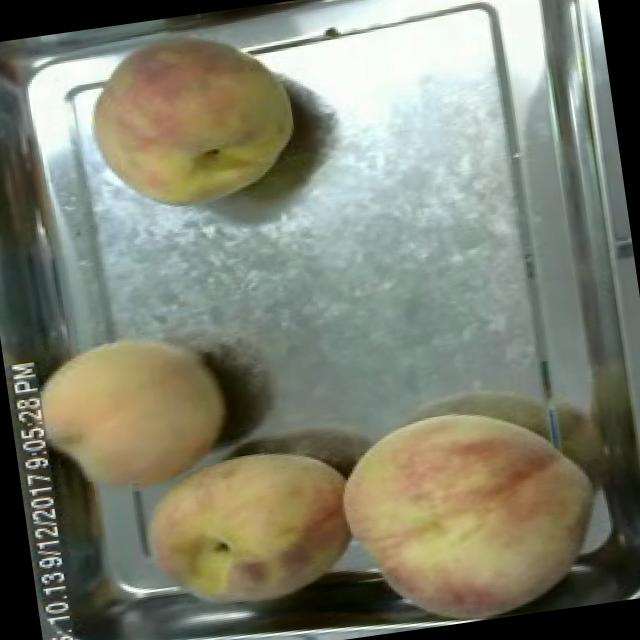Fruit: (320, 377, 634, 637), (70, 6, 313, 230), (122, 427, 374, 633), (10, 312, 246, 518)
